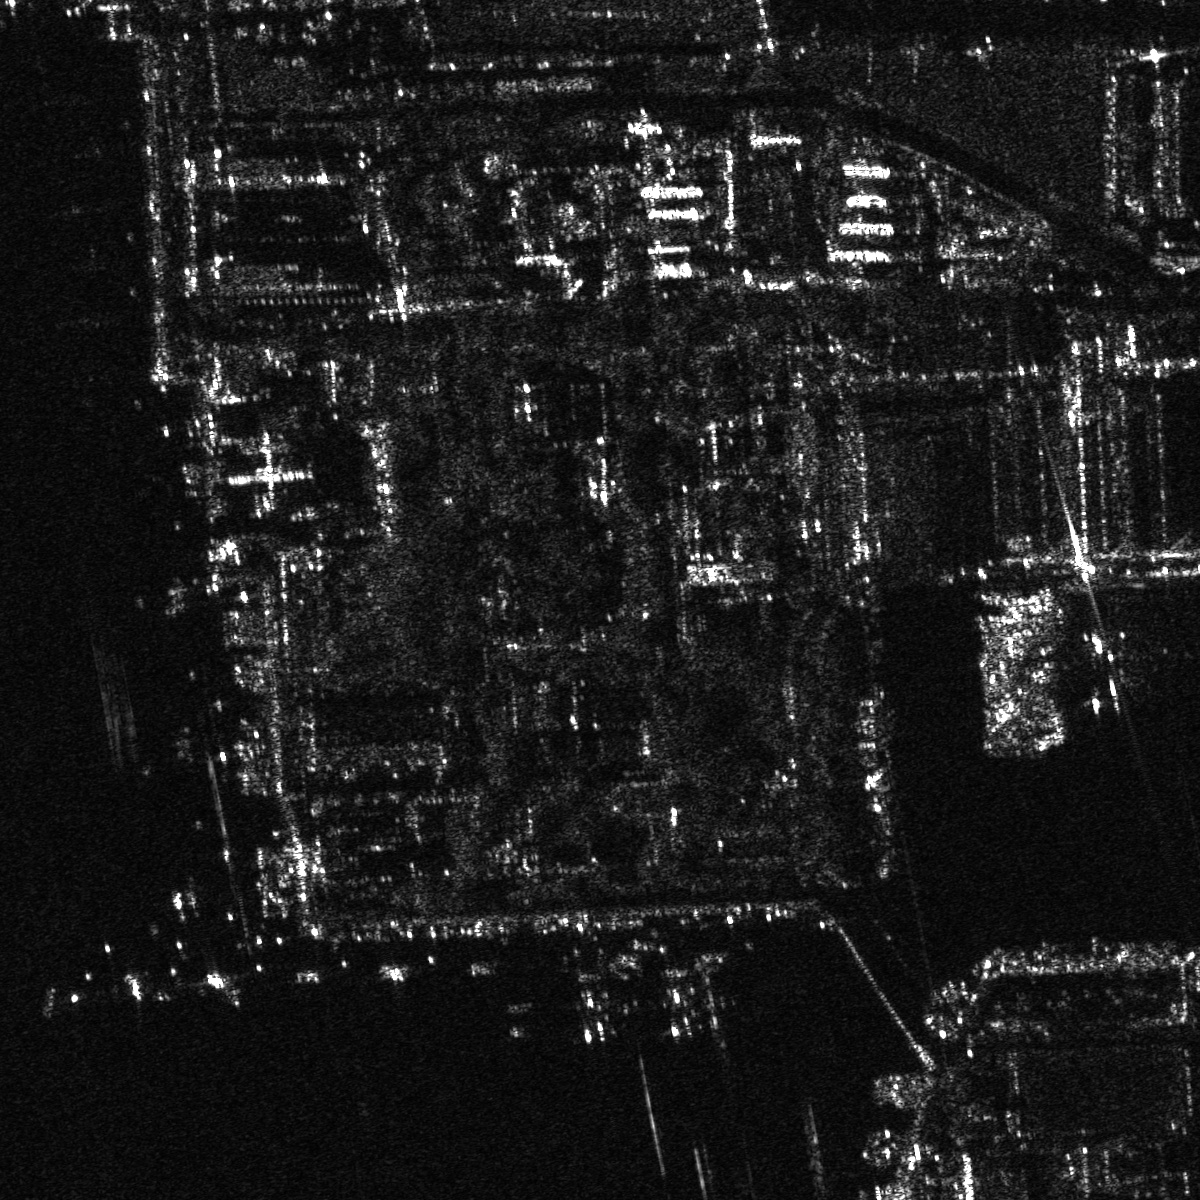ARJ21: (557, 966, 632, 1046)
Boeing737: (1073, 626, 1151, 716), (649, 964, 718, 1043), (189, 962, 255, 1012)
